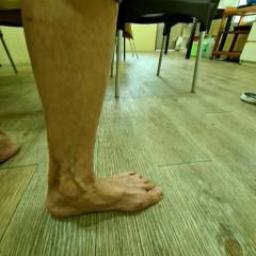Medial View -Left Foot-: (26, 136, 186, 232)
